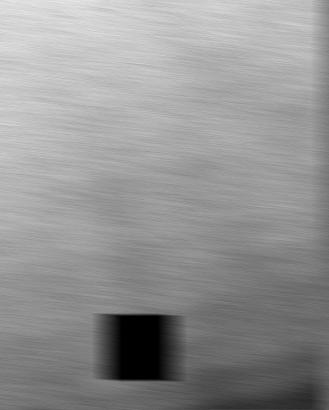Airbag: (0, 0, 328, 410), (322, 0, 329, 410)
